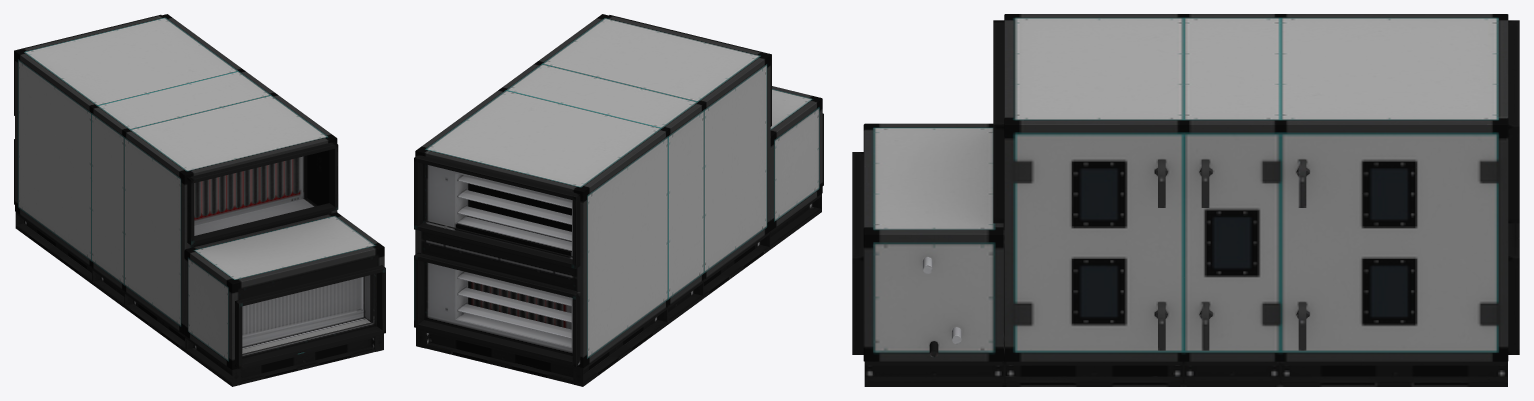
Rendered from Geniox_Small-Expo_512_Diffuse.glb.
3 views of the same model, side by side, from view 1: azimuth 30°, elevation 25°; view 2: azimuth 150°, elevation 25°; view 3: azimuth 270°, elevation 25° (orthographic). The views are drawn at different scales.
Visible parts, largest first — view 1: Geniox_Small-Expo; view 2: Geniox_Small-Expo; view 3: Geniox_Small-Expo.
Part boxes in pixels (x1=…): Geniox_Small-Expo: x1=14, y1=14, x2=385, y2=386; Geniox_Small-Expo: x1=414, y1=14, x2=823, y2=386; Geniox_Small-Expo: x1=852, y1=14, x2=1519, y2=386.
Size of the model in its own units: 1.17 by 1.2 by 2.76.
1 material, 1 textured.
